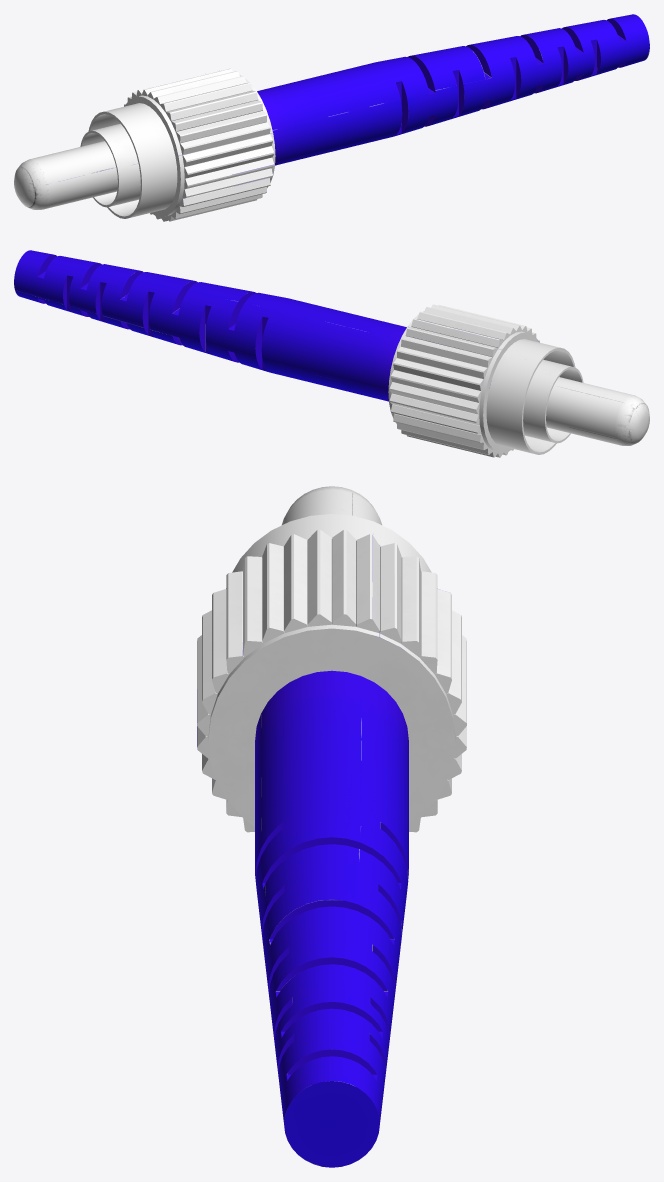
File: fc connector.fbx
The picture shows the model from 3 angles, top to bottom: view 1: azimuth 30°, elevation 25°; view 2: azimuth 150°, elevation 25°; view 3: azimuth 270°, elevation 25°; orthographic projection. The views are drawn at different scales.
Visible parts, largest first — view 1: FC CONNECTOR; view 2: FC CONNECTOR; view 3: FC CONNECTOR.
Part boxes in pixels (<box>): FC CONNECTOR: <box>14,14,649,221</box>; FC CONNECTOR: <box>14,250,649,457</box>; FC CONNECTOR: <box>197,486,466,1167</box>.
Size of the model in its own units: 4.79 by 0.9055 by 0.9055.
1 material, 1 textured.
